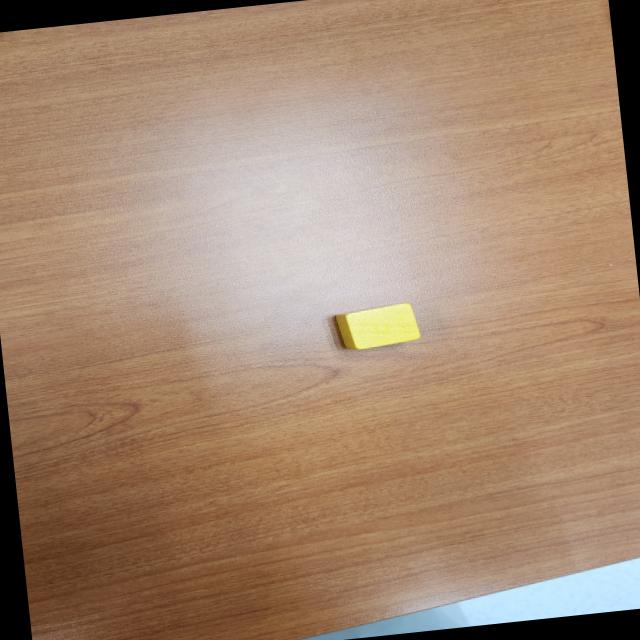yellow: (332, 300, 421, 351)
